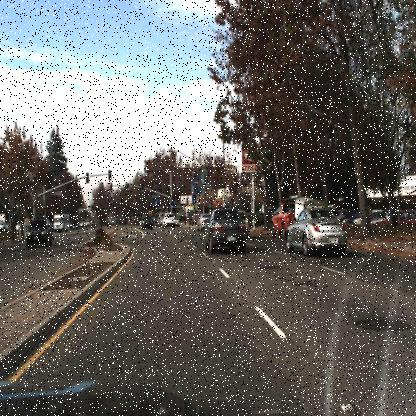car: (286, 205, 348, 254), (203, 205, 249, 259), (260, 188, 296, 242), (24, 212, 53, 254), (366, 210, 387, 232), (194, 206, 208, 238), (349, 213, 366, 234), (139, 210, 154, 230), (160, 211, 176, 228)
truck: (48, 212, 70, 234), (52, 210, 71, 233)
